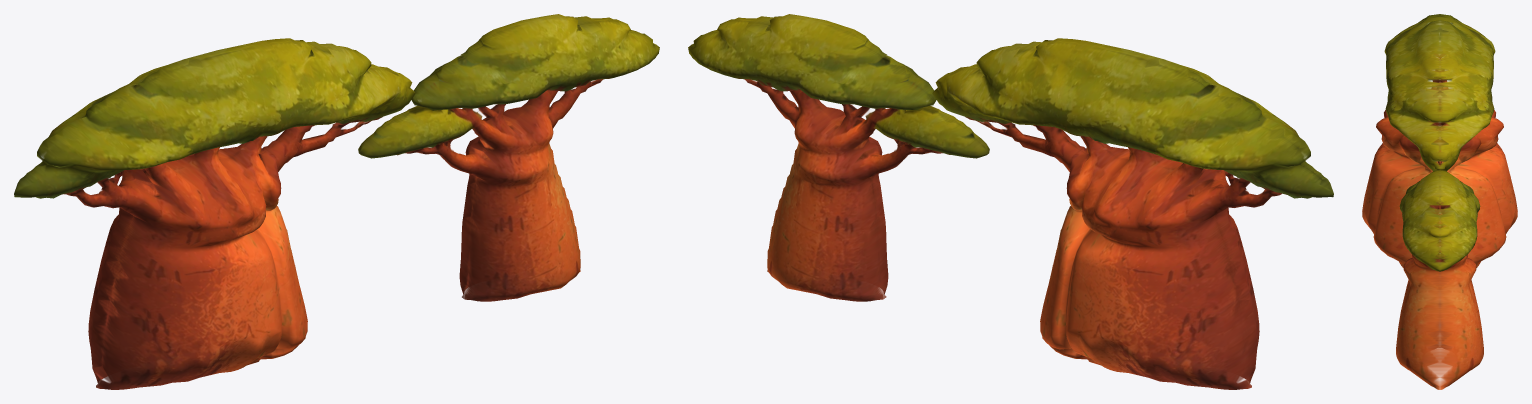
File: 03_baobab_trees_r00_c00.glb
3 renders of one model, left to right at view 1: azimuth 30°, elevation 25°; view 2: azimuth 150°, elevation 25°; view 3: azimuth 270°, elevation 25°, orthographic. The views are drawn at different scales.
Visible parts, largest first — view 1: 03_baobab_trees_r00_c00; view 2: 03_baobab_trees_r00_c00; view 3: 03_baobab_trees_r00_c00.
Boxes of the visible parts, left/top/right/bottom form: 03_baobab_trees_r00_c00: left=14, top=14, right=659, bottom=389; 03_baobab_trees_r00_c00: left=688, top=14, right=1333, bottom=389; 03_baobab_trees_r00_c00: left=1362, top=14, right=1517, bottom=389.
Size of the model in its own units: 9.97 by 4.47 by 2.83.
Materials: 1 (1 with a texture image).
